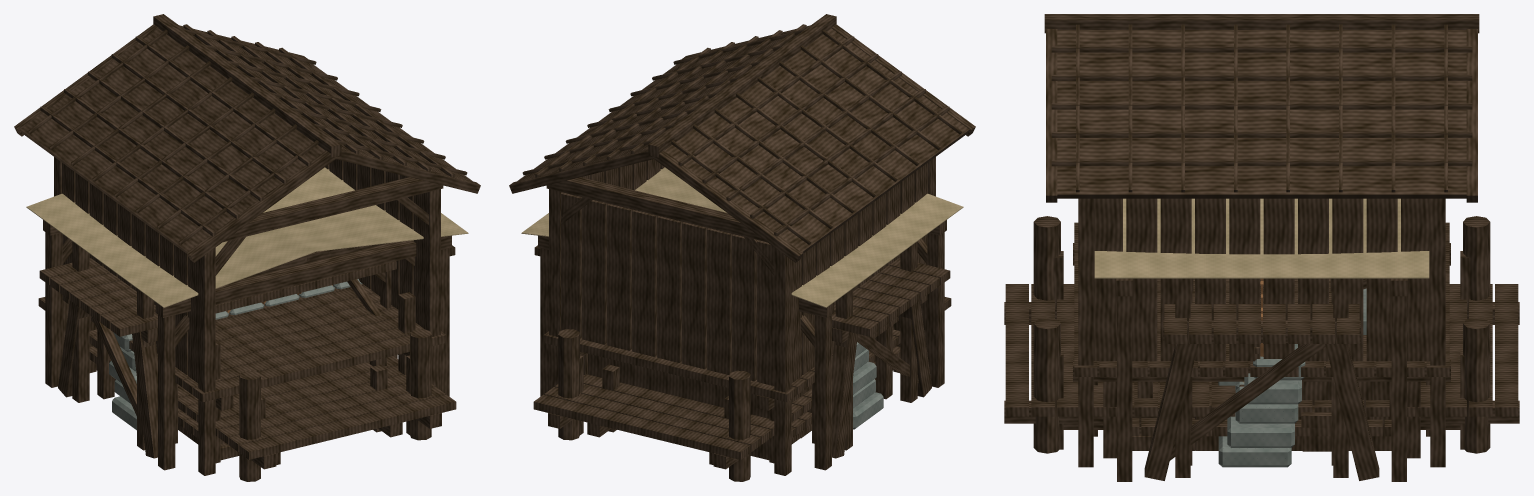
File: river-wetlands-kit.glb
3 views of the same model, side by side, from view 1: azimuth 30°, elevation 25°; view 2: azimuth 150°, elevation 25°; view 3: azimuth 270°, elevation 25° (orthographic). The views are drawn at different scales.
Parts seen in each view (by area): view 1: stilt_store_Weathered, mooring_jetty_Weathered, ferry_shelter_Dusty, bridge_trestle_Weathered, ferry_shelter_Weathered, fish_drying_rack_Weathered, flood_revetment_River-worn, duckboard_straight_Weathered, landing_steps_Weathered, duckboard_corner_Weathered; view 2: stilt_store_Weathered, mooring_jetty_Weathered, bridge_trestle_Weathered, ferry_shelter_Weathered, ferry_shelter_Dusty, landing_steps_Weathered, flood_revetment_River-worn, fish_drying_rack_Weathered, duckboard_straight_Weathered; view 3: stilt_store_Weathered, mooring_jetty_Weathered, bridge_trestle_Weathered, ferry_shelter_Dusty, ferry_shelter_Weathered, flood_revetment_River-worn, landing_steps_Weathered, duckboard_corner_Weathered, fish_drying_rack_Weathered.
Part boxes in pixels (x1,y1,x2,y2): stilt_store_Weathered: [14, 14, 480, 475]; mooring_jetty_Weathered: [38, 297, 456, 481]; ferry_shelter_Dusty: [26, 167, 468, 307]; bridge_trestle_Weathered: [39, 241, 455, 458]; ferry_shelter_Weathered: [43, 220, 451, 470]; fish_drying_rack_Weathered: [97, 243, 397, 443]; flood_revetment_River-worn: [109, 279, 362, 430]; duckboard_straight_Weathered: [261, 364, 402, 464]; landing_steps_Weathered: [96, 279, 402, 460]; duckboard_corner_Weathered: [89, 346, 386, 443]; stilt_store_Weathered: [509, 14, 975, 475]; mooring_jetty_Weathered: [533, 297, 951, 481]; bridge_trestle_Weathered: [534, 241, 950, 458]; ferry_shelter_Weathered: [538, 220, 946, 470]; ferry_shelter_Dusty: [521, 167, 963, 307]; landing_steps_Weathered: [588, 353, 893, 460]; flood_revetment_River-worn: [853, 342, 883, 429]; fish_drying_rack_Weathered: [812, 264, 892, 443]; duckboard_straight_Weathered: [587, 364, 728, 464]; stilt_store_Weathered: [1044, 14, 1479, 467]; mooring_jetty_Weathered: [1004, 216, 1519, 453]; bridge_trestle_Weathered: [1144, 278, 1379, 480]; ferry_shelter_Dusty: [1094, 198, 1429, 278]; ferry_shelter_Weathered: [1116, 278, 1407, 481]; flood_revetment_River-worn: [1218, 344, 1305, 467]; landing_steps_Weathered: [1132, 278, 1391, 450]; duckboard_corner_Weathered: [1132, 381, 1391, 436]; fish_drying_rack_Weathered: [1190, 278, 1333, 465].
Size of the model in its own units: 5.5 by 4.89 by 6.
4 materials, 4 textured.
